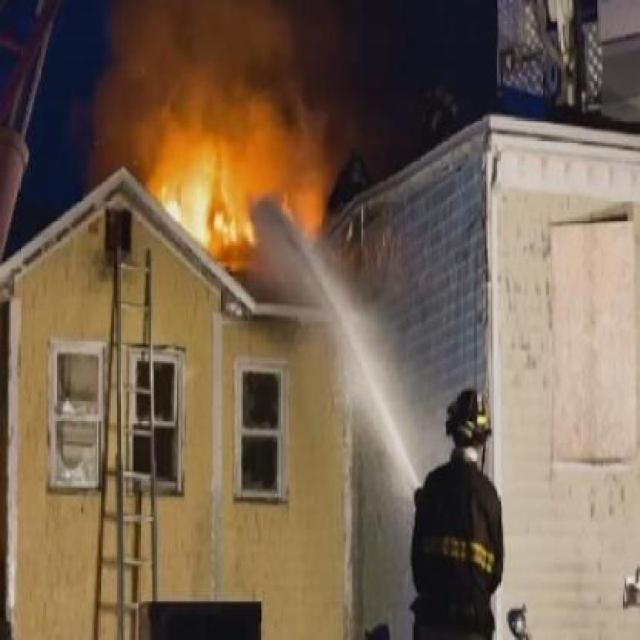Fire: (132, 100, 348, 274)
Smoke: (72, 7, 337, 113)
